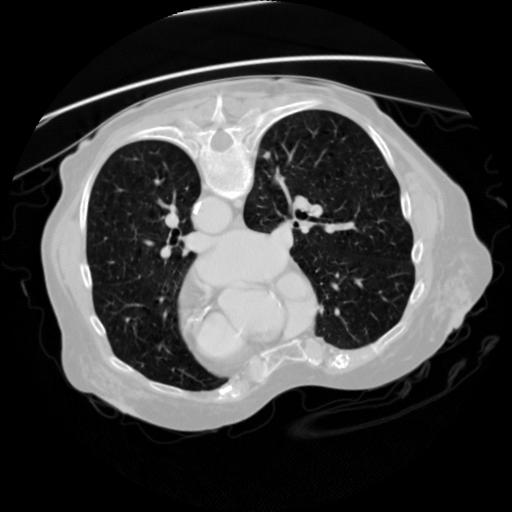nodule: (261, 150, 275, 164)
